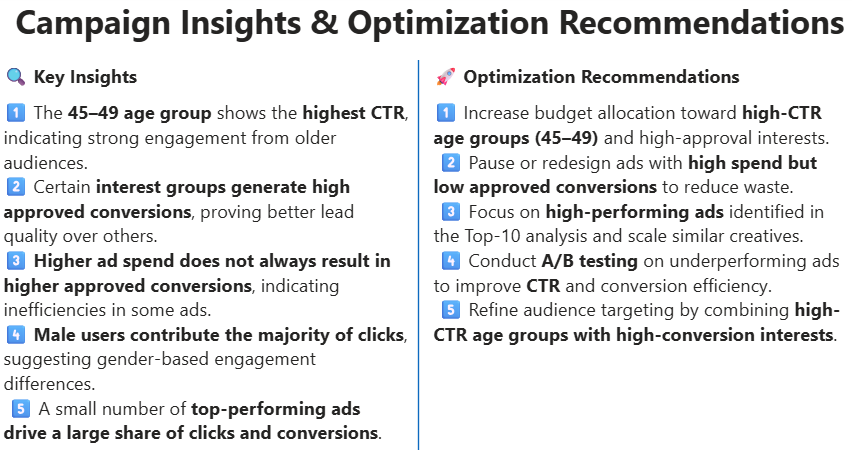

The page's visual inventory and layout, read from the dashboard file:
{"tool":"powerbi","page":{"name":"Page 3","canvas":[1280,720],"ordinal":2},"visuals":[{"type":"textbox","box":[17.6,0,1243.9,95.1],"z":0},{"type":"textbox","box":[10.2,95.1,602.9,588.3],"z":1000},{"type":"textbox","box":[639.5,95.1,622,559],"z":2000},{"type":"shape","box":[120,95.1,1005.4,570.7],"z":3000}]}

Visuals, with their boxes on the page's 1280x720 design canvas (x1, y1, x2, y2). These are canvas units, not pixel positions in the 852x461 screenshot, which may show the page scaled, cropped or inside an application window:
textbox: select_region(18, 0, 1262, 95)
textbox: select_region(10, 95, 613, 683)
textbox: select_region(640, 95, 1262, 654)
shape: select_region(120, 95, 1125, 666)
